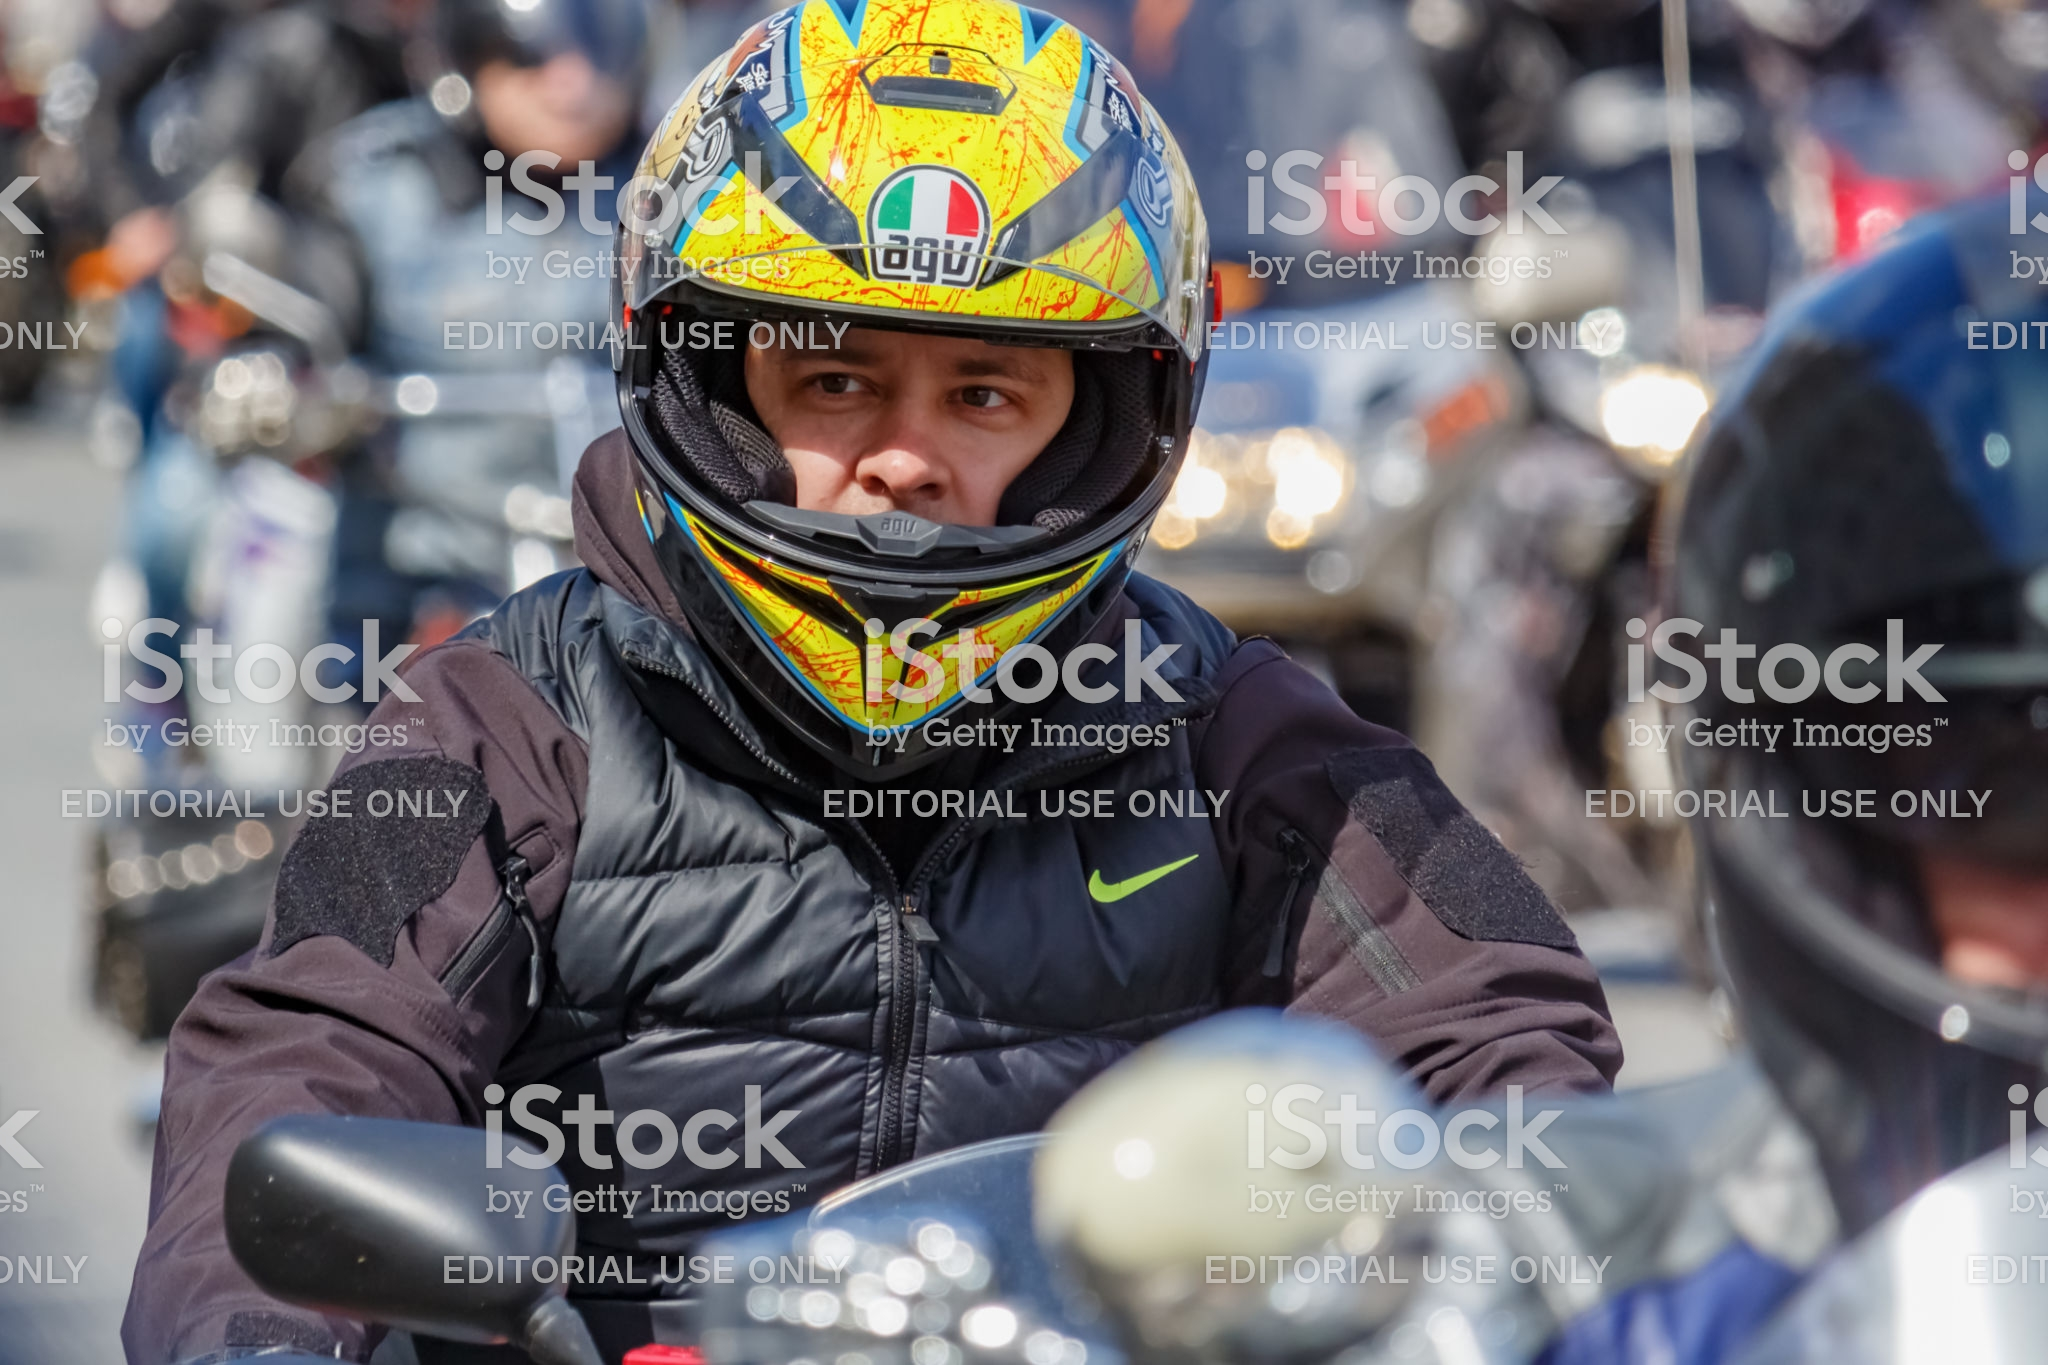helmet: (606, 50, 1214, 748)
